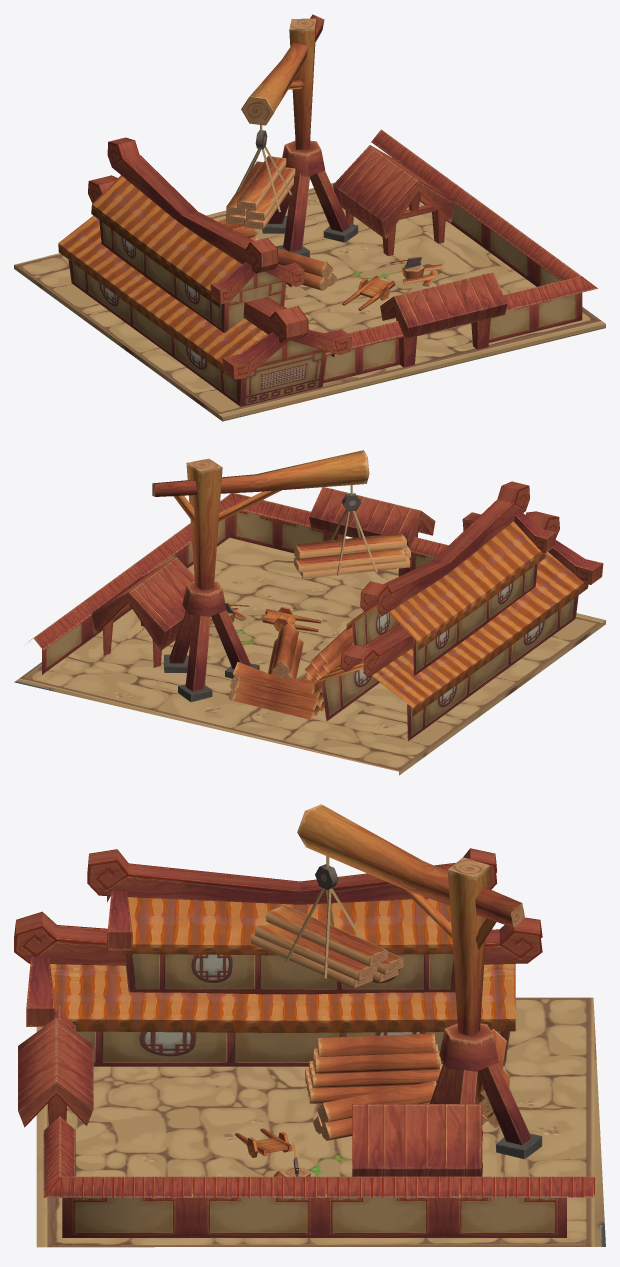
Rendered from Wood.FBX.
The picture shows the model from 3 angles, top to bottom: view 1: azimuth 30°, elevation 25°; view 2: azimuth 150°, elevation 25°; view 3: azimuth 270°, elevation 25°; orthographic projection. The views are drawn at different scales.
Parts seen in each view (by area): view 1: wood, wood01, wood02; view 2: wood, wood01, wood02; view 3: wood, wood01, wood02.
Boxes of the visible parts, bbox=[...] form: wood: bbox=[14, 129, 605, 421]; wood01: bbox=[241, 14, 324, 149]; wood02: bbox=[226, 125, 295, 229]; wood: bbox=[14, 481, 605, 775]; wood01: bbox=[152, 450, 369, 590]; wood02: bbox=[294, 485, 410, 578]; wood: bbox=[14, 848, 605, 1247]; wood01: bbox=[297, 804, 524, 1036]; wood02: bbox=[251, 856, 403, 988].
Bounding box in the file's own units: 101 × 101 × 57.85.
